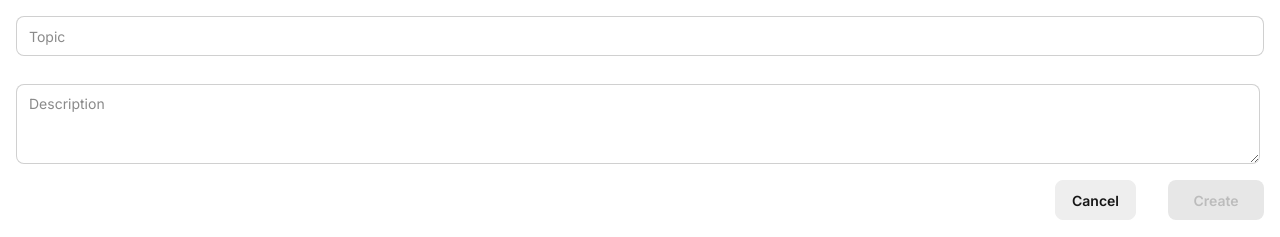
it: Notes Editor › topic input › required error › is displayed after tabbing out of the input
The width and height of the screenshot is (1280, 237).
Click the field labelled "Topic": [640, 36] box [16,16,1264,56]
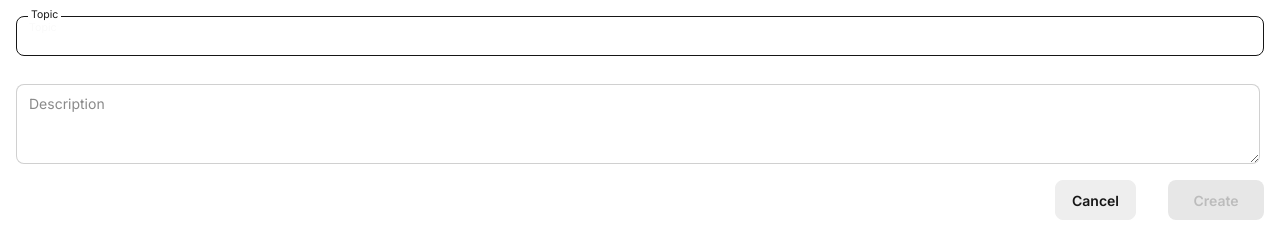
Press Tab
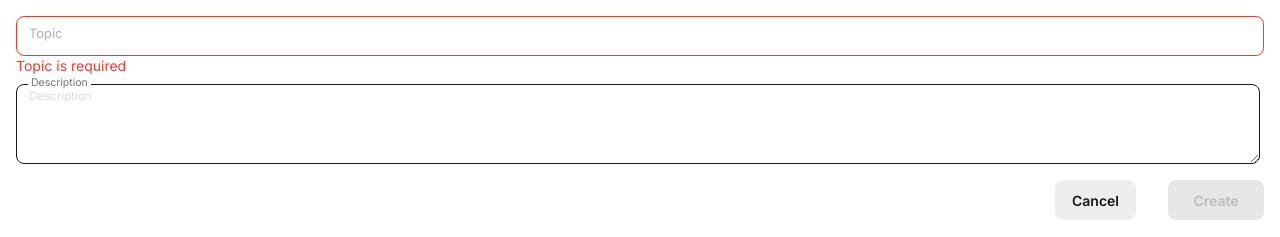
Expected: the text "Topic is required" is shown, [16,57,126,74]
